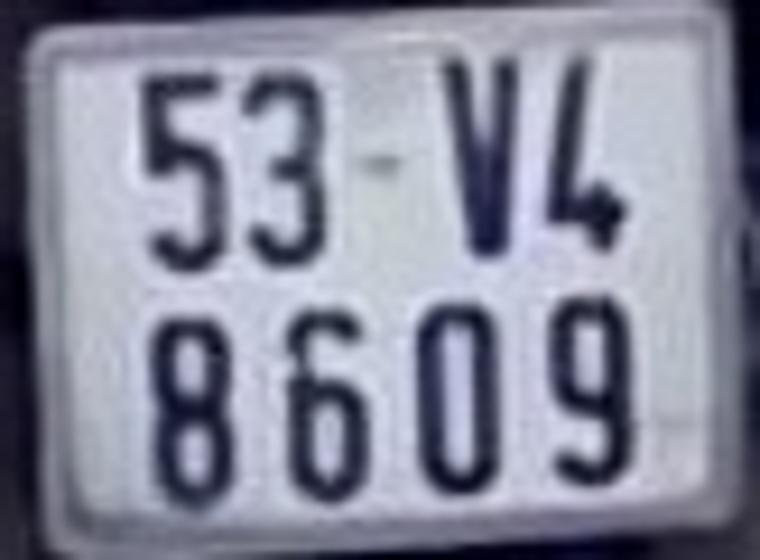-: (361, 156, 403, 179)
0: (417, 301, 501, 492)
3: (243, 65, 323, 264)
4: (548, 51, 627, 254)
5: (140, 67, 225, 268)
6: (281, 307, 369, 507)
8: (148, 321, 232, 509)
9: (544, 295, 630, 492)
V: (440, 55, 514, 259)
